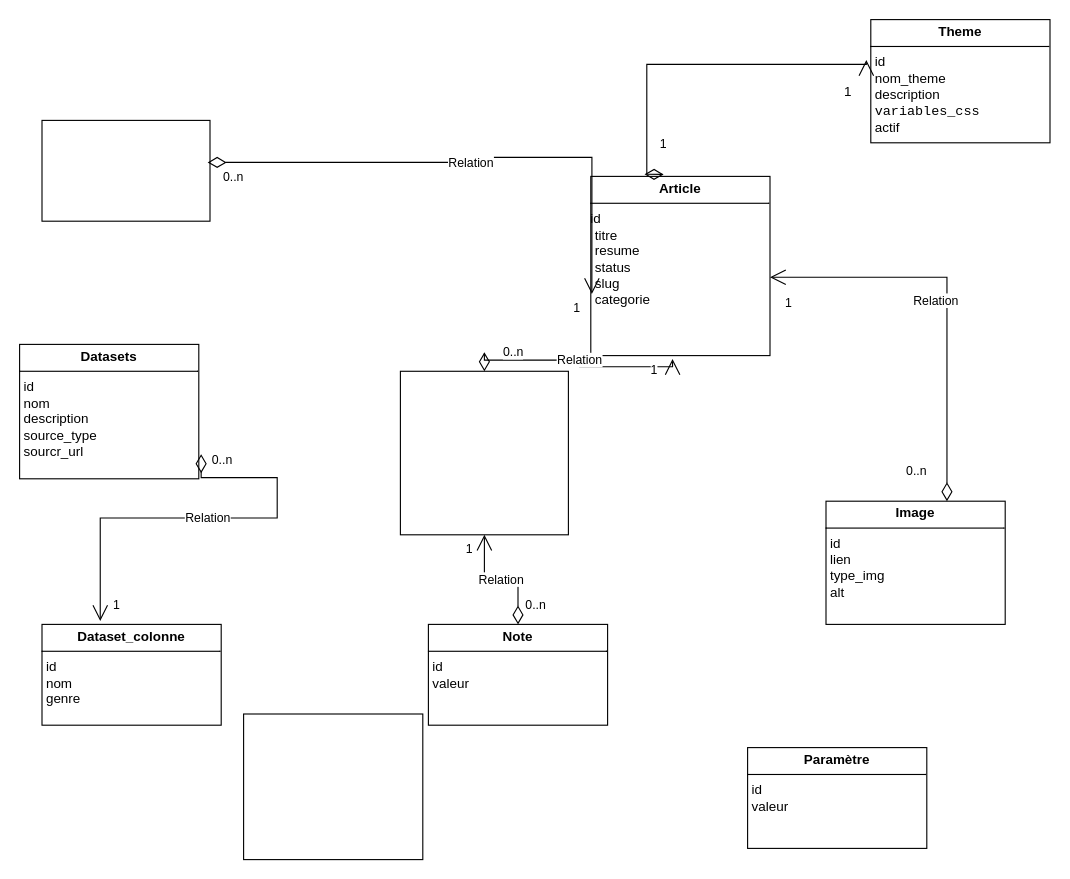
Image size: 1070x879. Some labels were removed from this diagram. The centre of each missing label's shape, as x and y in pixels:
"Bloc id titre texte" goes at point (125, 170).
"Utilisateur id nom prenom email mot_de_passe role" goes at point (483, 452).
"Visualisation id type_visualisation" goes at point (332, 786).
